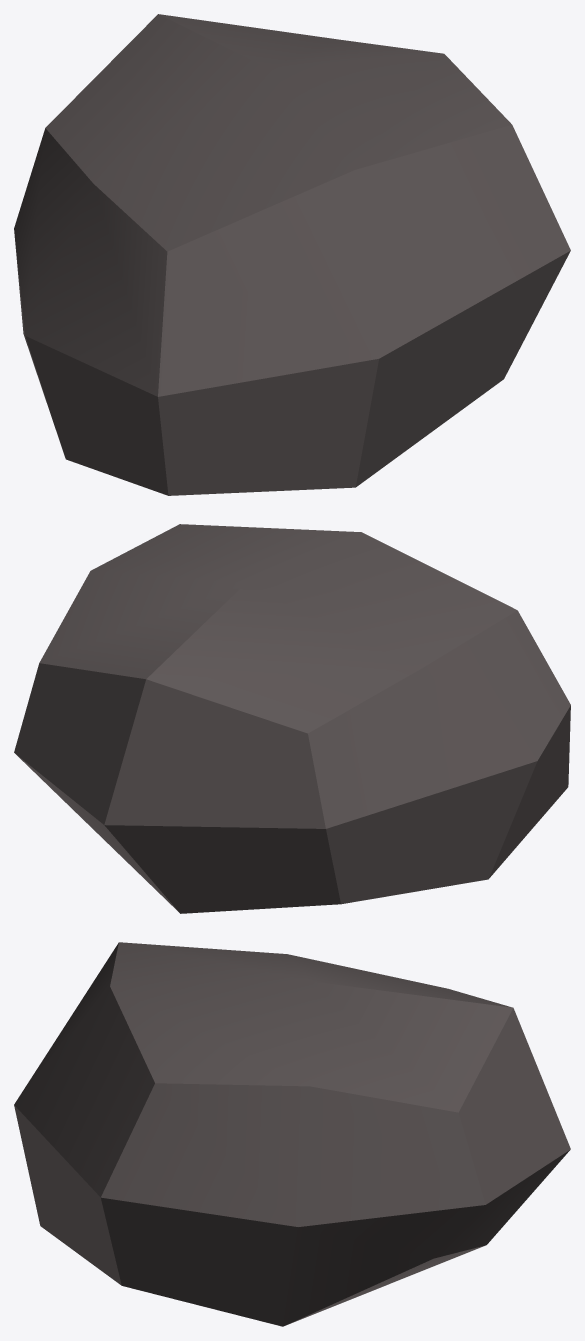
Rendered from PedraPequena4.fbx.
3 renders of one model, top to bottom at view 1: azimuth 30°, elevation 25°; view 2: azimuth 150°, elevation 25°; view 3: azimuth 270°, elevation 25°, orthographic. The views are drawn at different scales.
Parts seen in each view (by area): view 1: PedraMenor4; view 2: PedraMenor4; view 3: PedraMenor4.
Part boxes in pixels (x1,y1,x2,y2): PedraMenor4: [14, 14, 570, 495]; PedraMenor4: [14, 524, 570, 913]; PedraMenor4: [14, 942, 570, 1326].
Size of the model in its own units: 0.1174 by 0.0663 by 0.1177.
